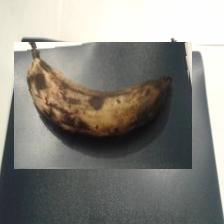Banana Rotten: (14, 42, 192, 169)
